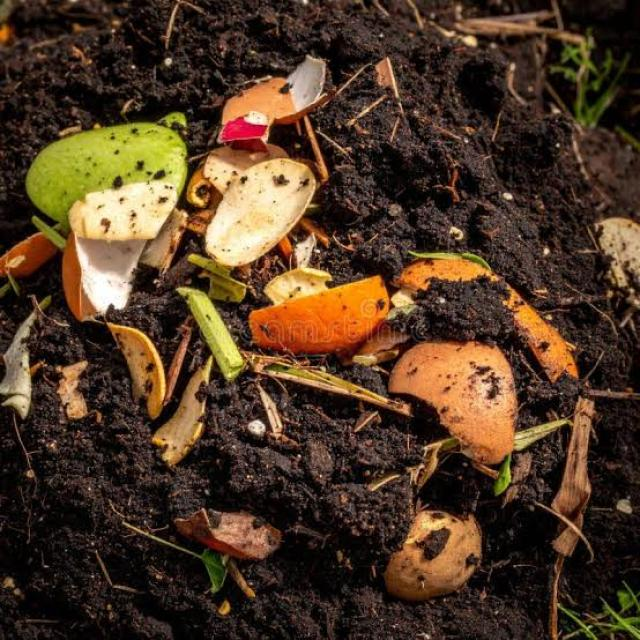materia_organica: (81, 61, 584, 589)
